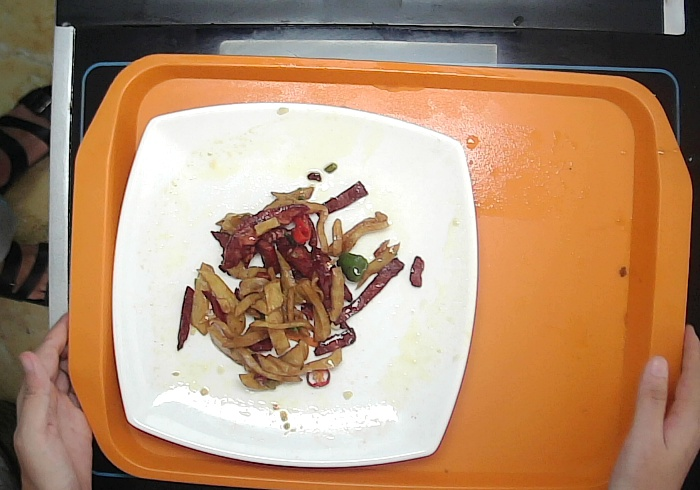ZNLD-Bai_Fang_Pan: (111, 103, 479, 466)
